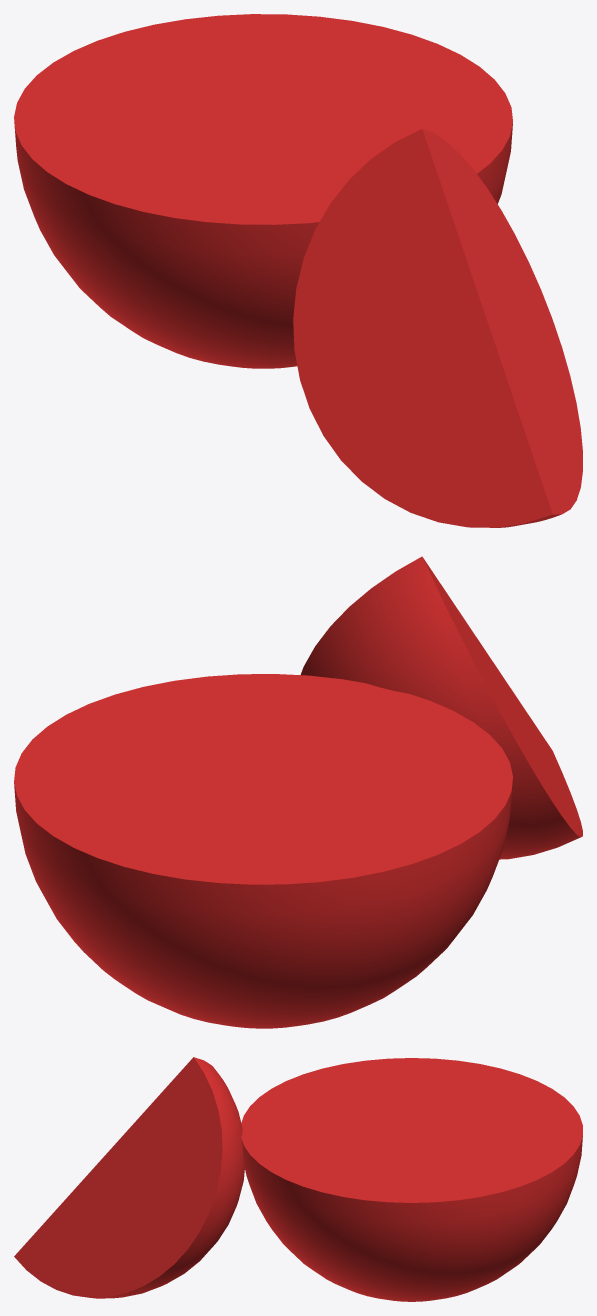
The picture shows the model from 3 angles, top to bottom: view 1: azimuth 30°, elevation 25°; view 2: azimuth 150°, elevation 25°; view 3: azimuth 270°, elevation 25°; orthographic projection. The views are drawn at different scales.
Visible parts, largest first — view 1: round_halves; view 2: round_halves; view 3: round_halves.
Boxes of the visible parts, x1=… form: round_halves: x1=14, y1=14, x2=582, y2=527; round_halves: x1=14, y1=556, x2=582, y2=1028; round_halves: x1=14, y1=1057, x2=582, y2=1301.
Bounding box in the file's own units: 0.0423 × 0.0311 × 0.0701.
